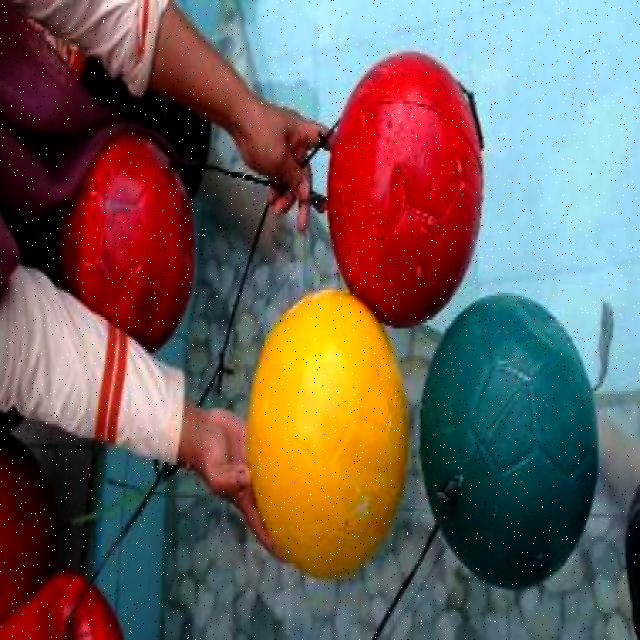buoy: (418, 292, 597, 588), (246, 288, 410, 582), (326, 49, 483, 328), (57, 132, 195, 354)
